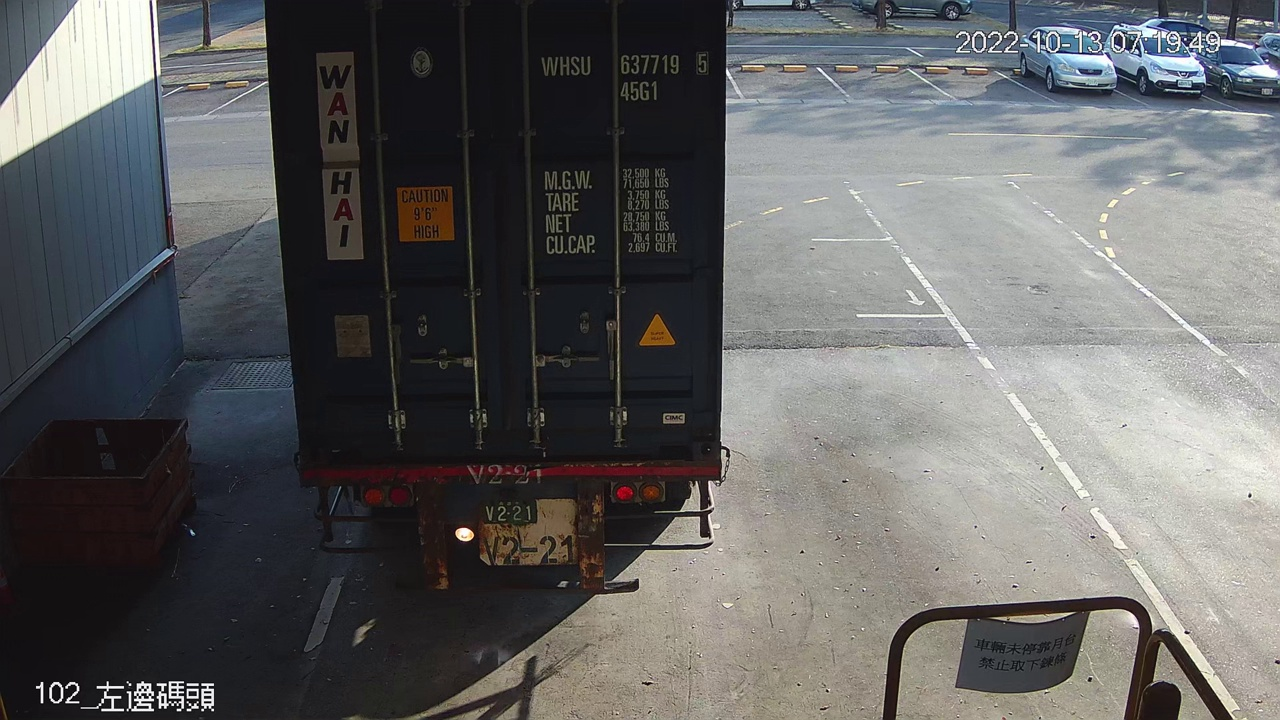container: (534, 42, 717, 108)
